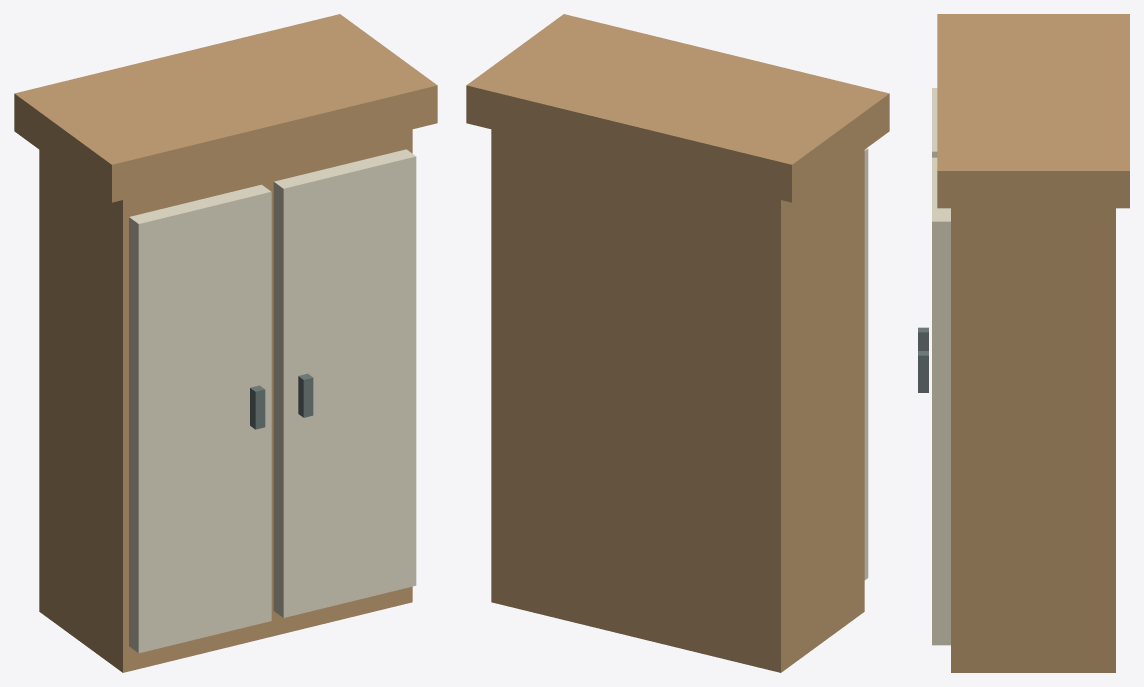
The model's file is cozy-farm-and-homestead-pantry-cupboard-806c29fd__19421.glb.
3 views of the same model, side by side, from view 1: azimuth 30°, elevation 25°; view 2: azimuth 150°, elevation 25°; view 3: azimuth 270°, elevation 25° (orthographic).
Parts seen in each view (by area): view 1: pantry-cupboard; view 2: pantry-cupboard; view 3: pantry-cupboard.
Part boxes in pixels (x1,y1,x2,y2): pantry-cupboard: [14, 14, 437, 672]; pantry-cupboard: [466, 14, 889, 672]; pantry-cupboard: [918, 14, 1129, 672].
Bounding box in the file's own units: 1.35 × 2.05 × 0.77.
